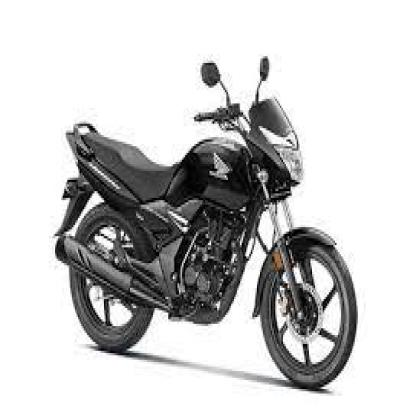bike: (44, 54, 360, 387)
